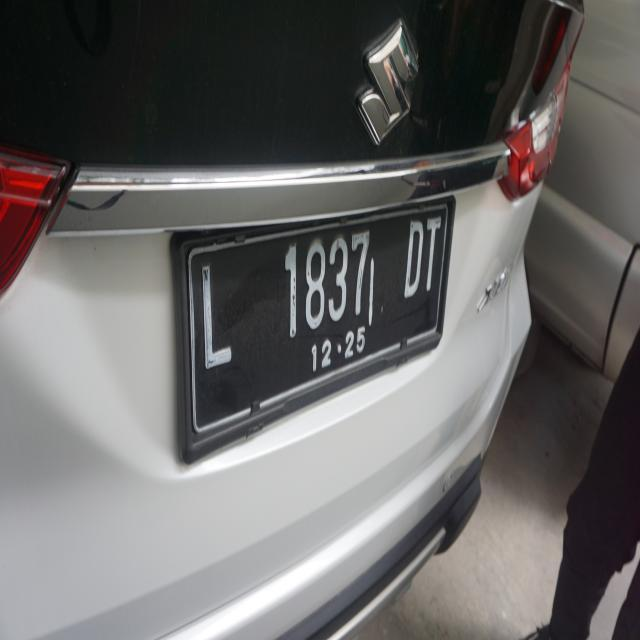1: (275, 235, 304, 348)
3: (326, 228, 349, 330)
7: (348, 225, 371, 318)
8: (300, 236, 326, 332)
D: (399, 211, 423, 298)
L: (188, 248, 239, 382)
T: (420, 211, 442, 303)
